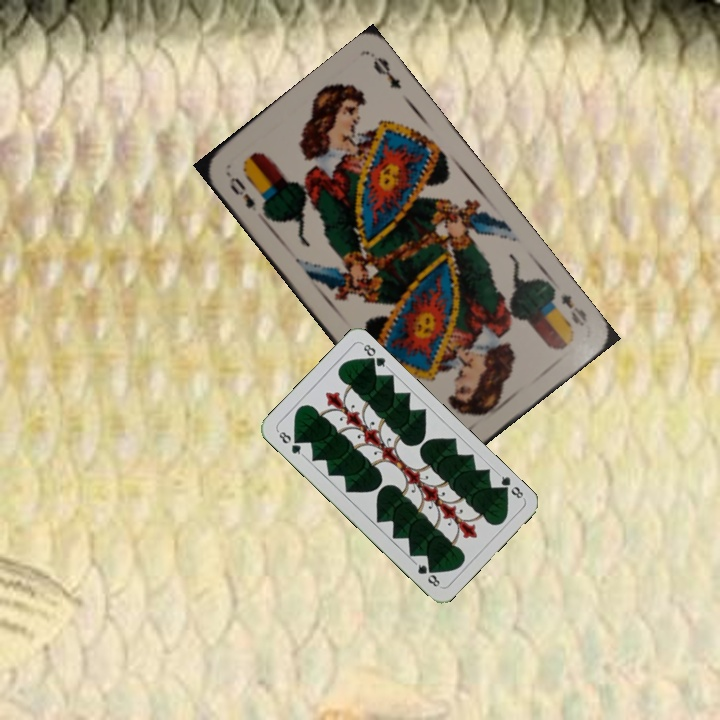EO: (225, 173, 268, 216), (556, 290, 590, 330)
G8: (274, 426, 306, 458), (494, 469, 526, 501)
